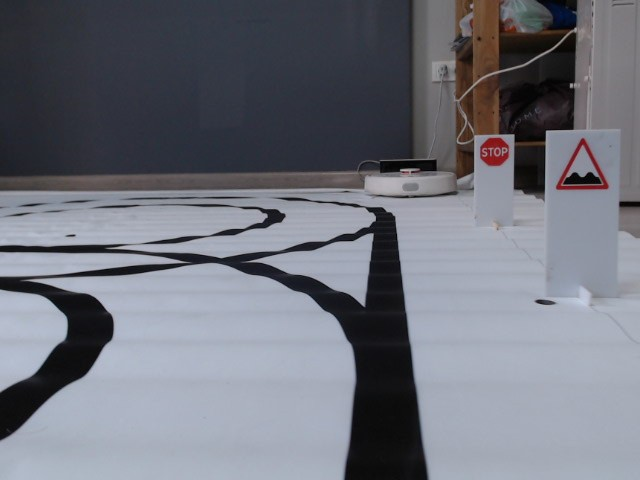Nerov: (554, 136, 610, 191)
Stop: (479, 137, 509, 165)
